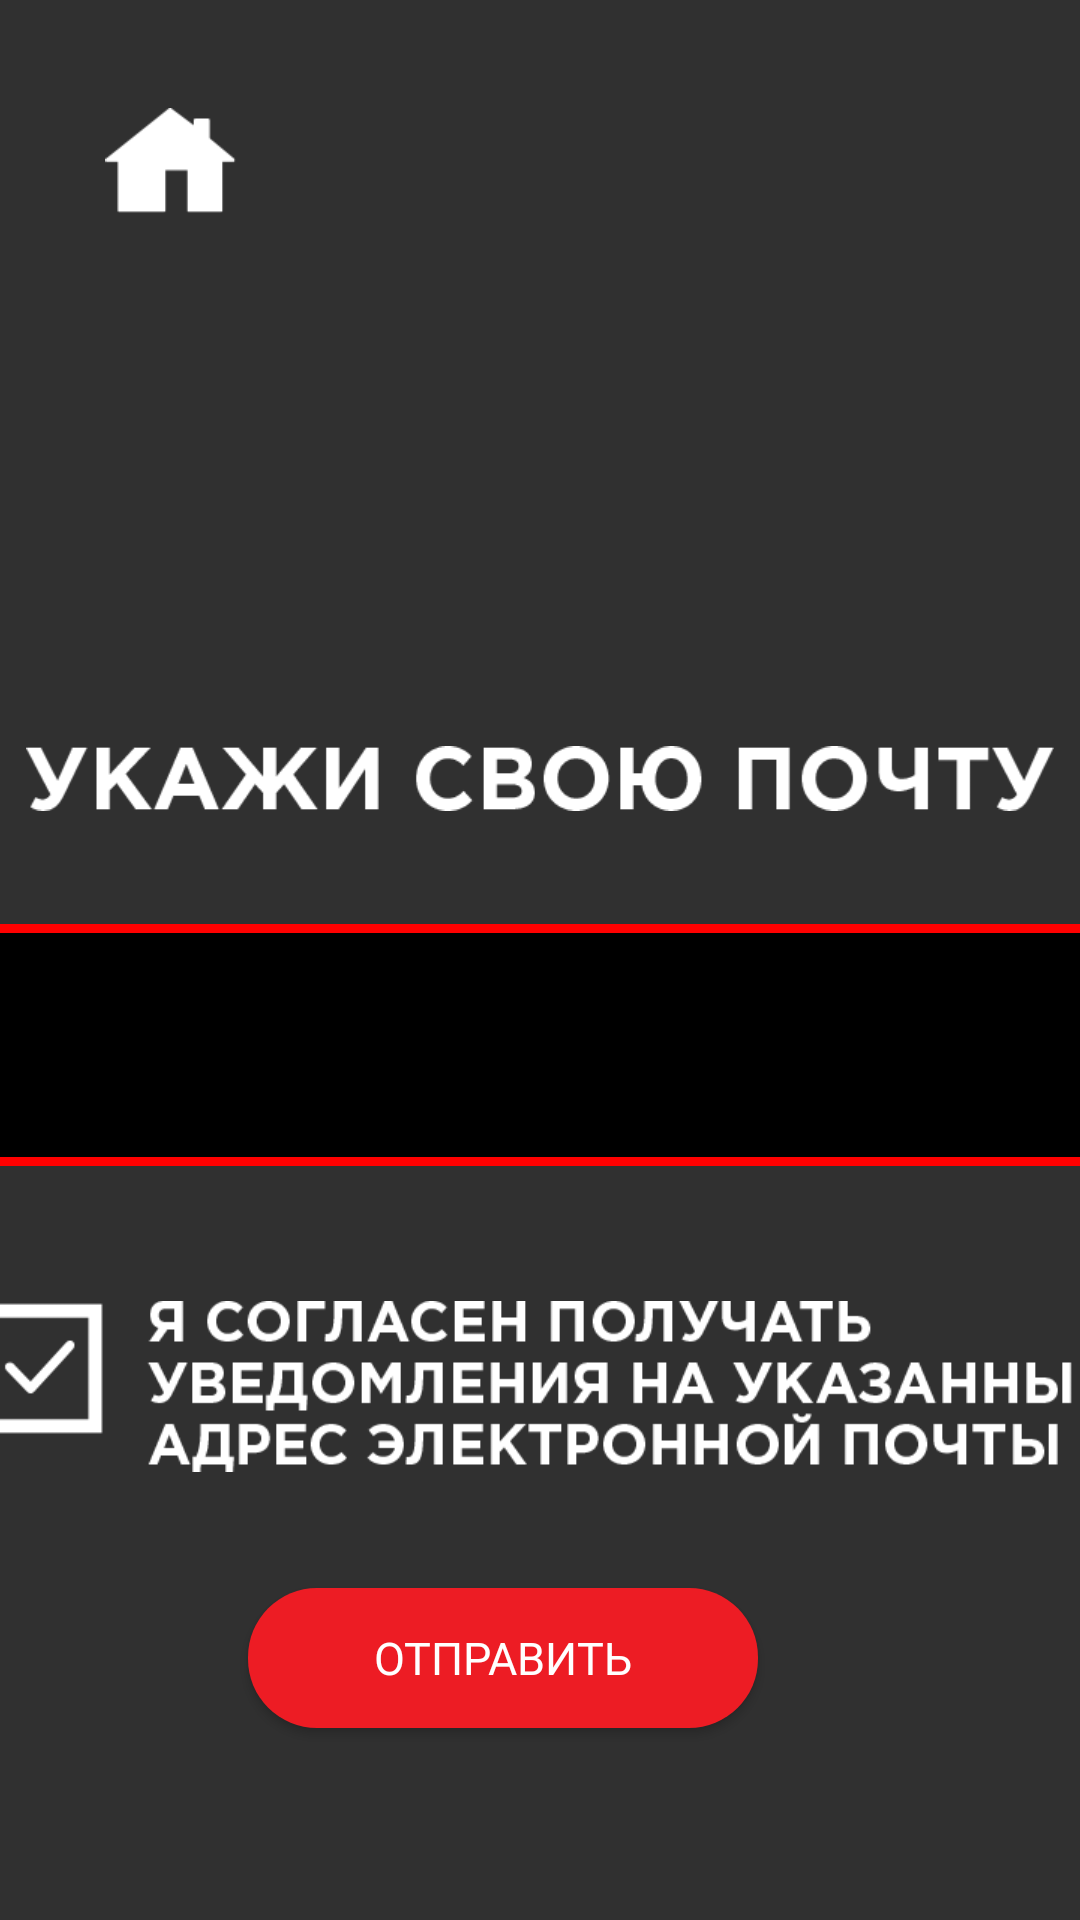

Where icons sit on this 1080 x 1920 app screen, as (x1, y1, x2, y2):
house: (105, 108, 235, 213)
